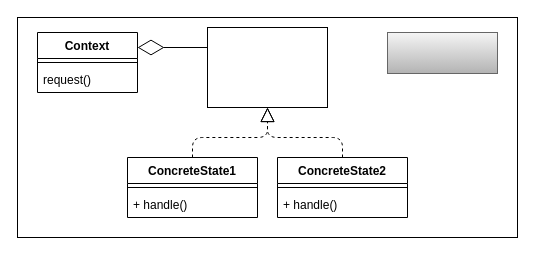
This 535x255 diagram has some shape labels left out. The centre of each missing label's shape, as x and y in pixels:
<<Interface>> State handle(): pixel 267 67
State: pixel 442 53
